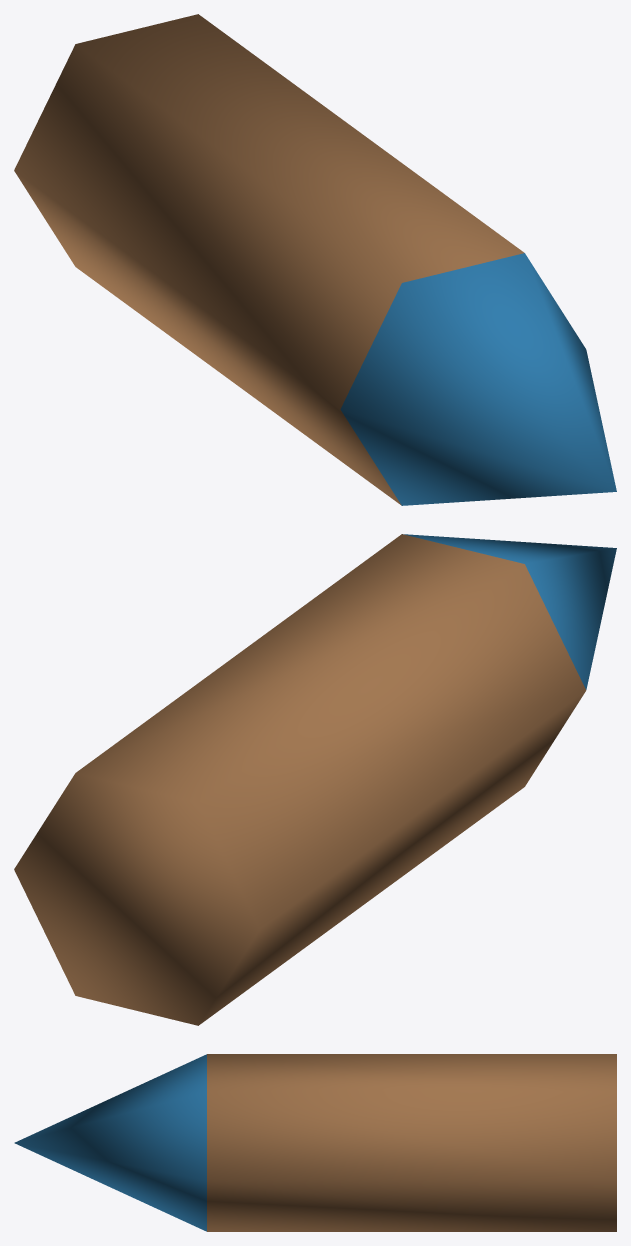
Rendered from rotor_heavy_projectile_game.glb.
3 renders of one model, top to bottom at view 1: azimuth 30°, elevation 25°; view 2: azimuth 150°, elevation 25°; view 3: azimuth 270°, elevation 25°, orthographic. The views are drawn at different scales.
Visible parts, largest first — view 1: AMMO_MESH.007; view 2: AMMO_MESH.007; view 3: AMMO_MESH.007.
Boxes of the visible parts, x1,y1,x2,y2 form: AMMO_MESH.007: [14, 14, 616, 505]; AMMO_MESH.007: [14, 534, 616, 1025]; AMMO_MESH.007: [14, 1054, 616, 1231].
Size of the model in its own units: 0.0084 by 0.00727 by 0.0284.
